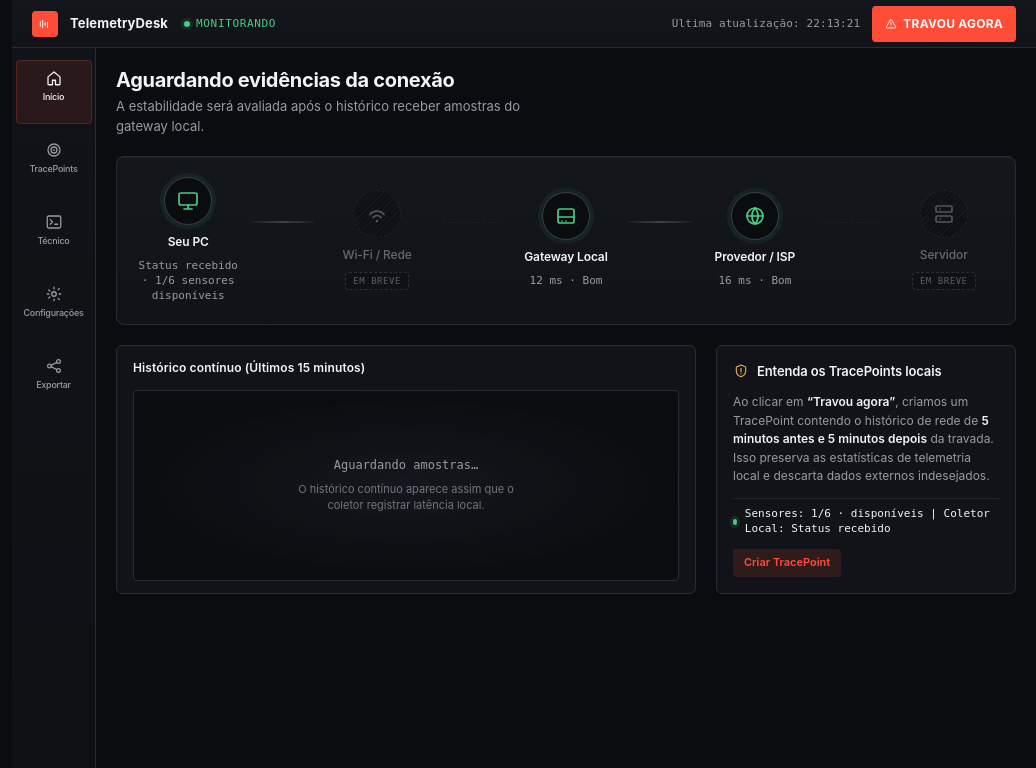
Test case: clears Travou agora feedback when navigating sections
The width and height of the screenshot is (1036, 768).
Click the button "TRAVOU AGORA": (944, 24) left=872, top=6, right=1016, bottom=42
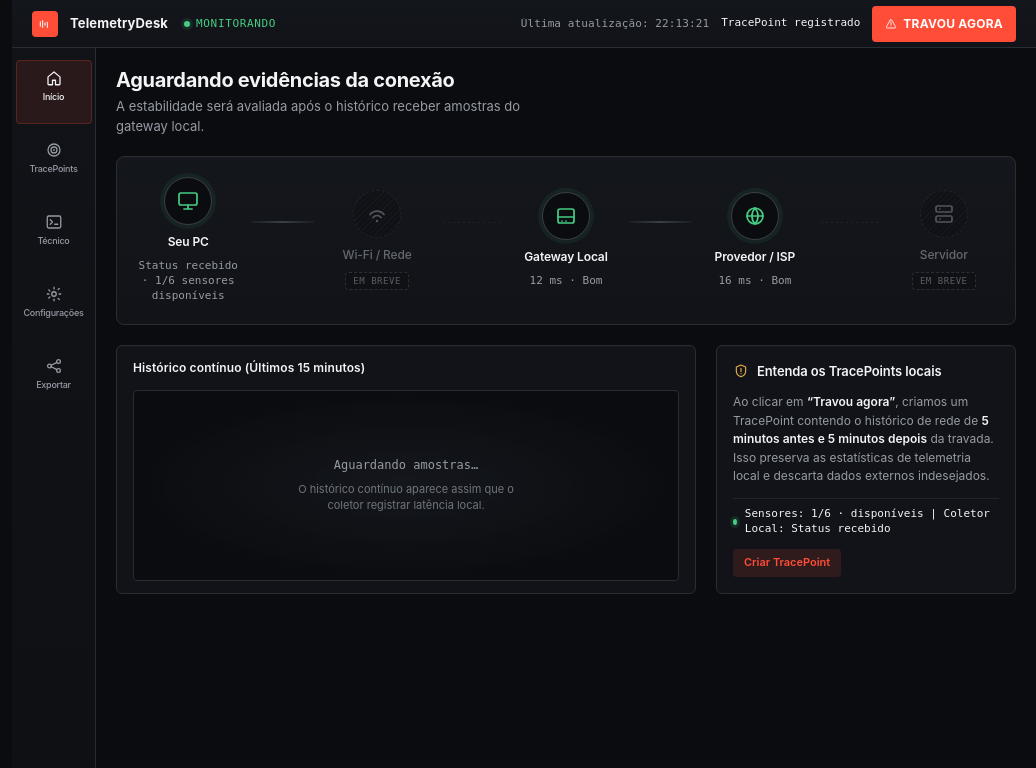
Check: the message "TracePoint registrado" is shown, box left=721, top=16, right=860, bottom=31
Click the button "Técnico": (54, 236) left=16, top=204, right=92, bottom=268
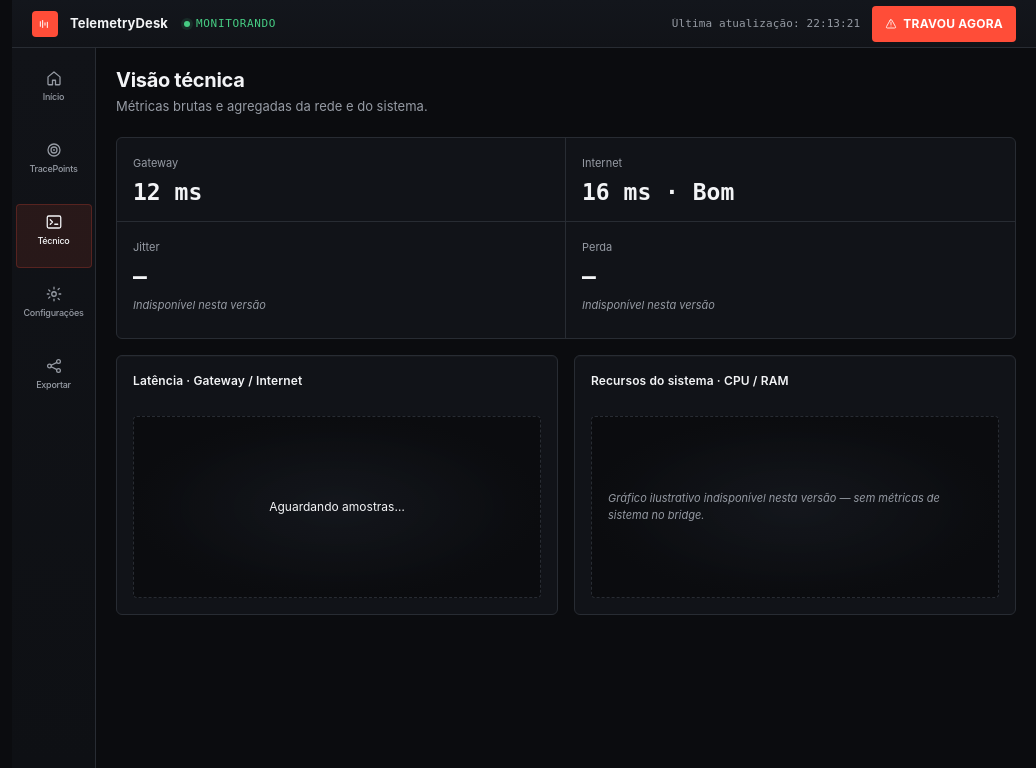
Check: the message "TracePoint registrado" is gone
